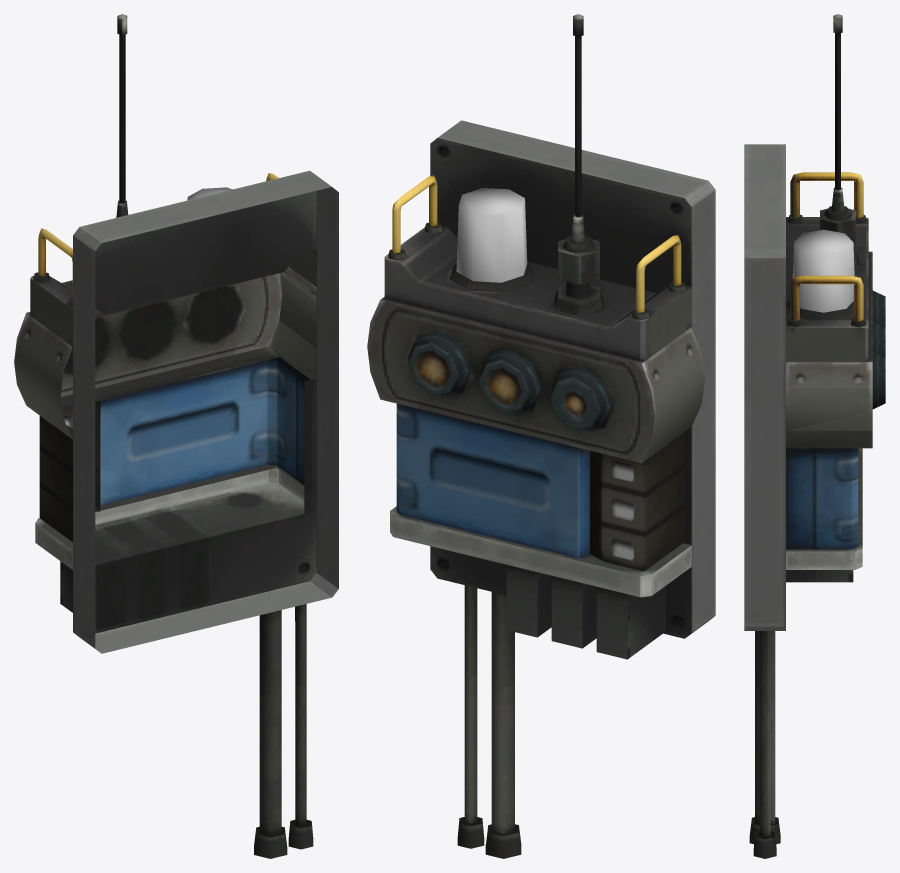
Rendered from machine.FBX.
3 views of the same model, side by side, from view 1: azimuth 30°, elevation 25°; view 2: azimuth 150°, elevation 25°; view 3: azimuth 270°, elevation 25° (orthographic). The views are drawn at different scales.
Visible parts, largest first — view 1: DYN_Checkpoint; view 2: DYN_Checkpoint; view 3: DYN_Checkpoint.
Part boxes in pixels (x1=…): DYN_Checkpoint: x1=14, y1=14, x2=338, y2=858; DYN_Checkpoint: x1=367, y1=14, x2=715, y2=858; DYN_Checkpoint: x1=744, y1=14, x2=885, y2=858.
Bounding box in the file's own units: 63.67 × 190 × 31.26.
